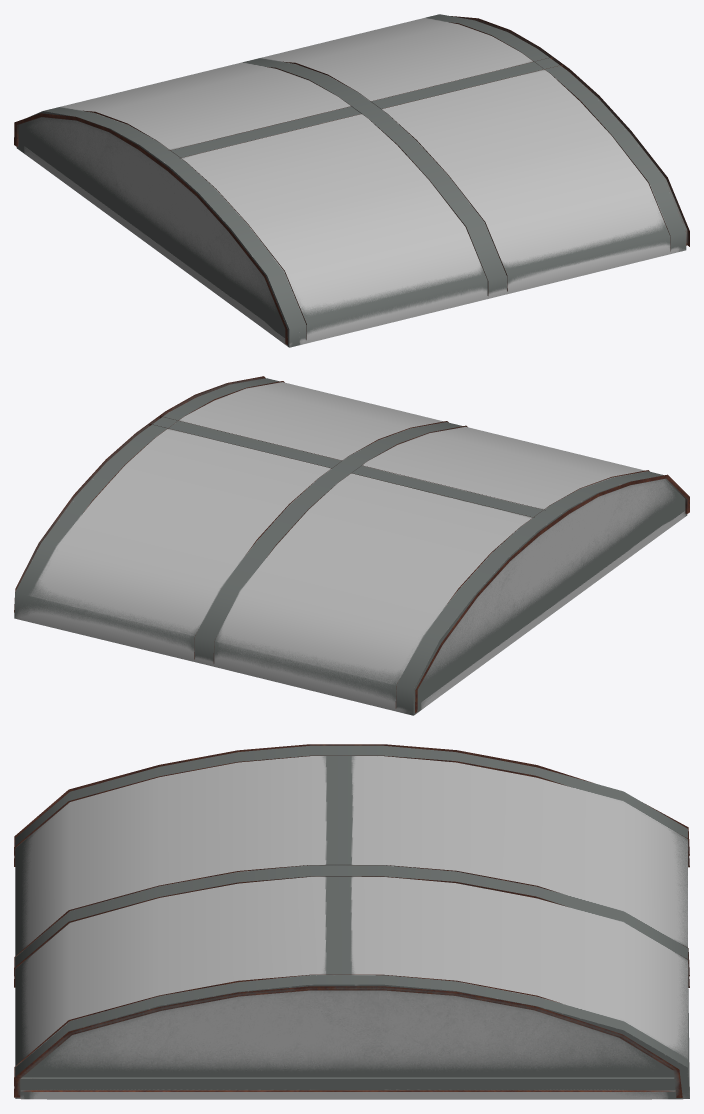
The model's file is SM_Entourage_Roof.fbx.
3 views of the same model, one above another, from view 1: azimuth 30°, elevation 25°; view 2: azimuth 150°, elevation 25°; view 3: azimuth 270°, elevation 25° (orthographic). The views are drawn at different scales.
Visible parts, largest first — view 1: SM_Entourage_Roof; view 2: SM_Entourage_Roof; view 3: SM_Entourage_Roof.
Boxes of the visible parts, x1,y1,x2,y2 form: SM_Entourage_Roof: (14, 14, 689, 347); SM_Entourage_Roof: (14, 376, 689, 715); SM_Entourage_Roof: (14, 744, 689, 1099).
Size of the model in its own units: 197 by 232 by 43.83.
1 material, 1 textured.
